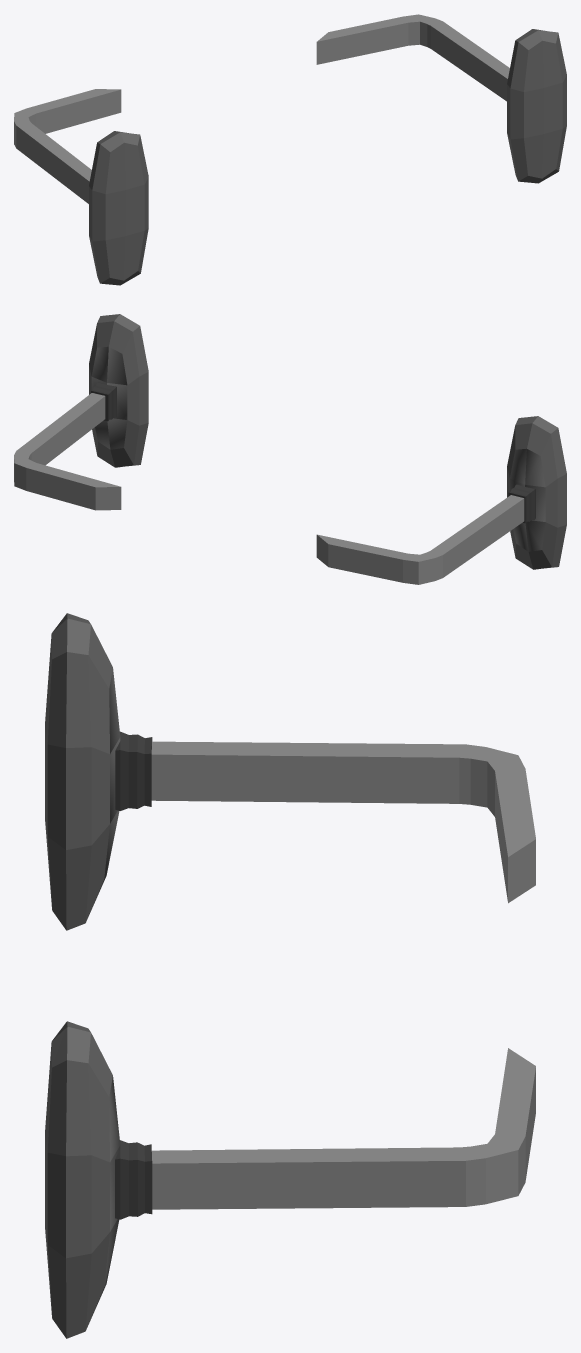
File: Chair_Body_Ac.obj
3 views of the same model, one above another, from view 1: azimuth 30°, elevation 25°; view 2: azimuth 150°, elevation 25°; view 3: azimuth 270°, elevation 25° (orthographic). The views are drawn at different scales.
Visible parts, largest first — view 1: Chair_Body_Ac; view 2: Chair_Body_Ac; view 3: Chair_Body_Ac.
Boxes of the visible parts, x1=… form: Chair_Body_Ac: x1=14, y1=14, x2=566, y2=285; Chair_Body_Ac: x1=14, y1=314, x2=566, y2=584; Chair_Body_Ac: x1=45, y1=613, x2=535, y2=1338.
Bounding box in the file's own units: 0.6715 × 0.207 × 0.3009.
